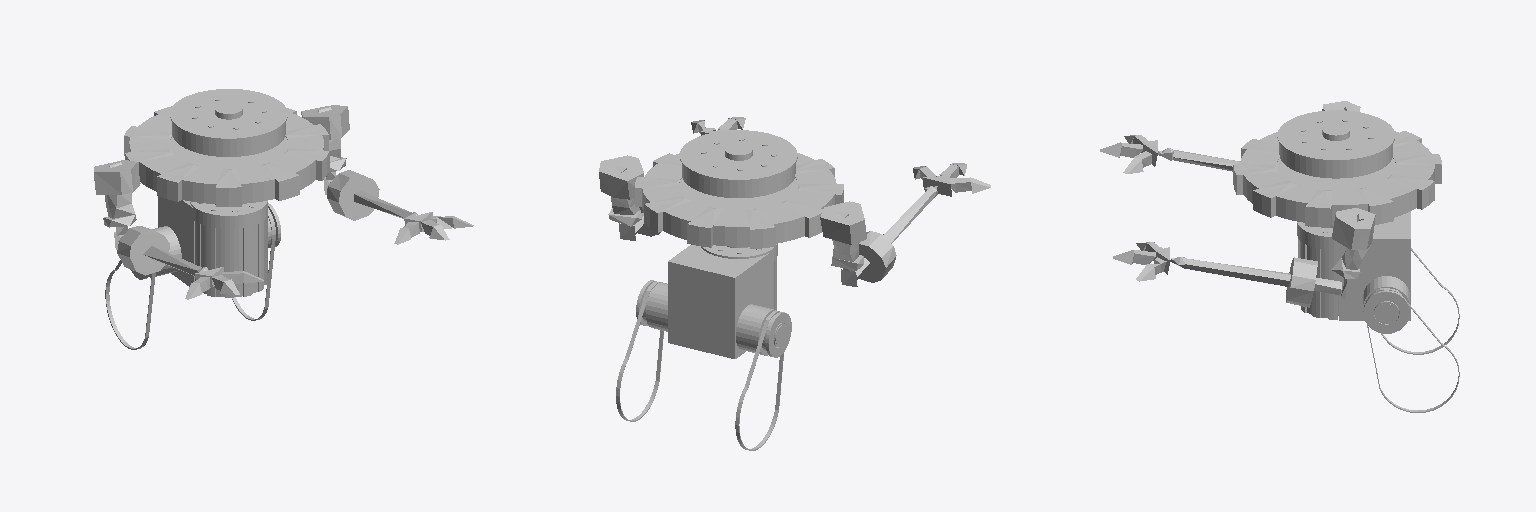
Rendered from RobotRece_000006.obj.
3 views of the same model, side by side, from view 1: azimuth 30°, elevation 25°; view 2: azimuth 150°, elevation 25°; view 3: azimuth 270°, elevation 25° (orthographic).
Visible parts, largest first — view 1: Cylinder.007, Cube_Cube.003; view 2: Cylinder.007, Cube_Cube.003; view 3: Cylinder.007, Cube_Cube.003.
Boxes of the visible parts, x1=… form: Cylinder.007: x1=105, y1=89, x2=329, y2=349; Cube_Cube.003: x1=94, y1=105, x2=473, y2=299; Cylinder.007: x1=616, y1=130, x2=843, y2=450; Cube_Cube.003: x1=599, y1=117, x2=990, y2=286; Cylinder.007: x1=1233, y1=110, x2=1459, y2=412; Cube_Cube.003: x1=1100, y1=101, x2=1375, y2=307.
Size of the model in its own units: 4.59 by 3.78 by 4.85.